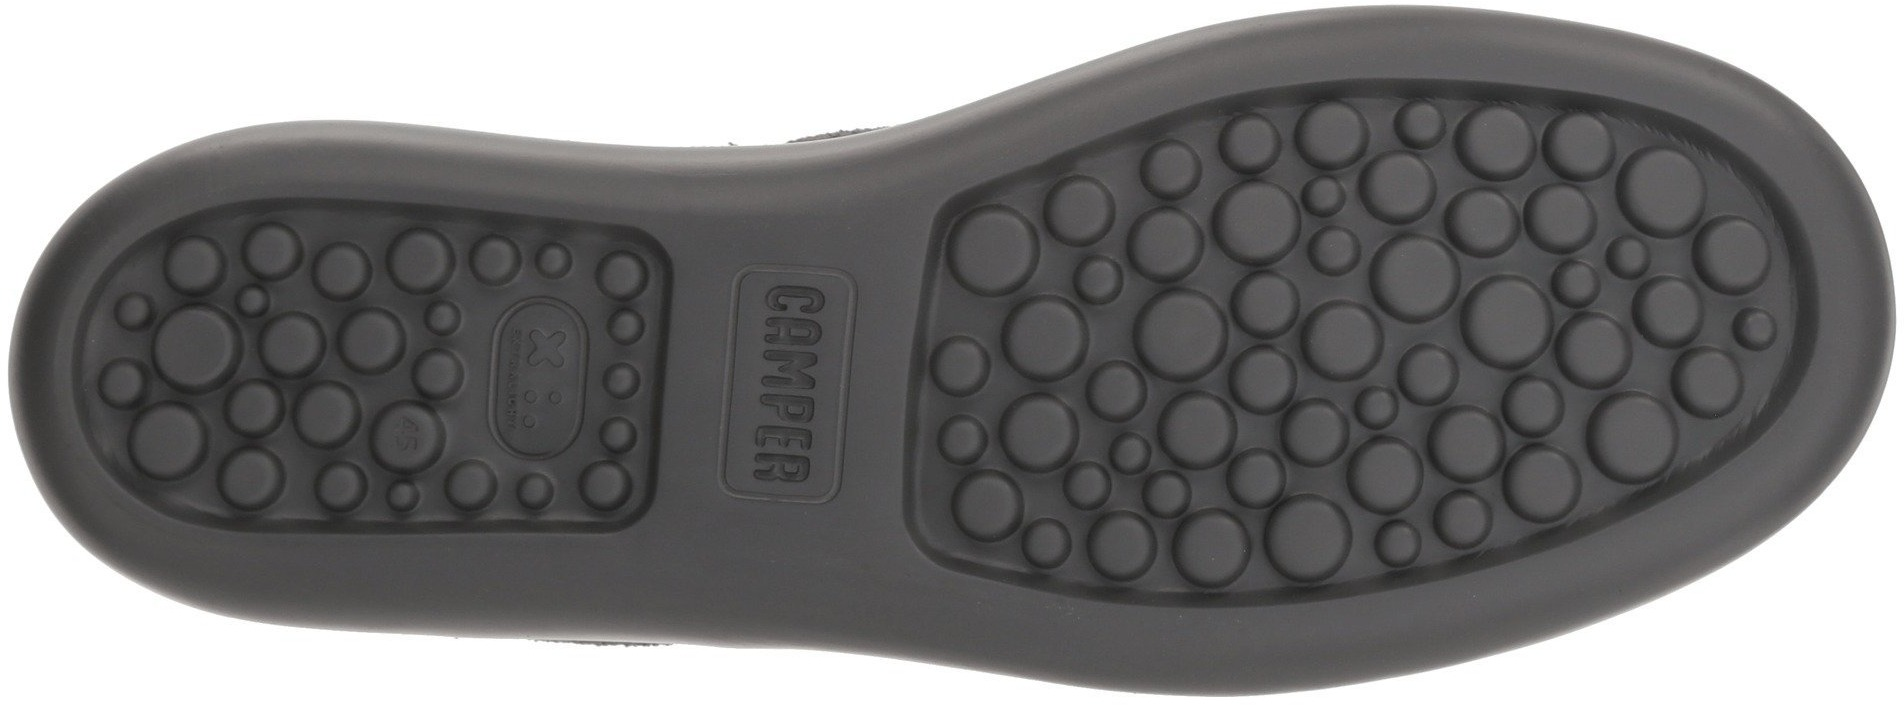circle: (1341, 144, 1677, 474), (960, 224, 1298, 542), (155, 241, 436, 508), (1685, 234, 1795, 343)
other: (722, 508, 869, 639)
quad: (690, 265, 900, 493)
text: (690, 265, 900, 493), (719, 278, 873, 425)
